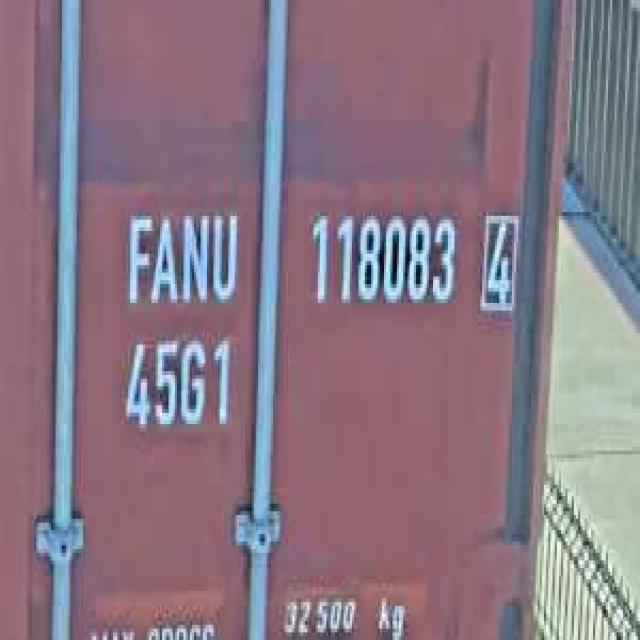dv: (476, 201, 522, 318)
owner: (117, 197, 241, 310)
serial: (303, 197, 459, 318)
size: (117, 330, 237, 443)
